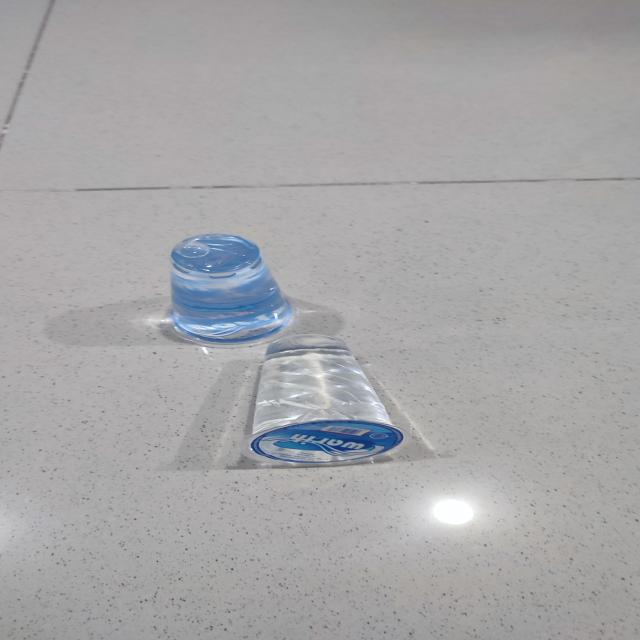air gelas: (235, 335, 409, 470), (157, 229, 311, 347)
